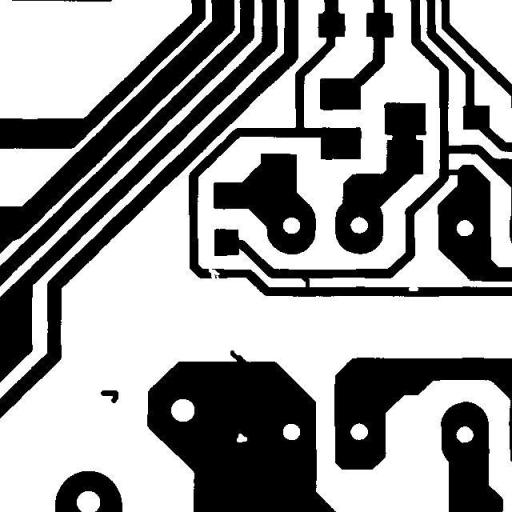copper: (92, 382, 126, 410)
mousebite: (400, 280, 426, 298)
open: (201, 258, 227, 288)
pin-hole: (229, 426, 254, 450)
short: (434, 162, 468, 184), (294, 268, 316, 297)
spur: (222, 342, 254, 372)
